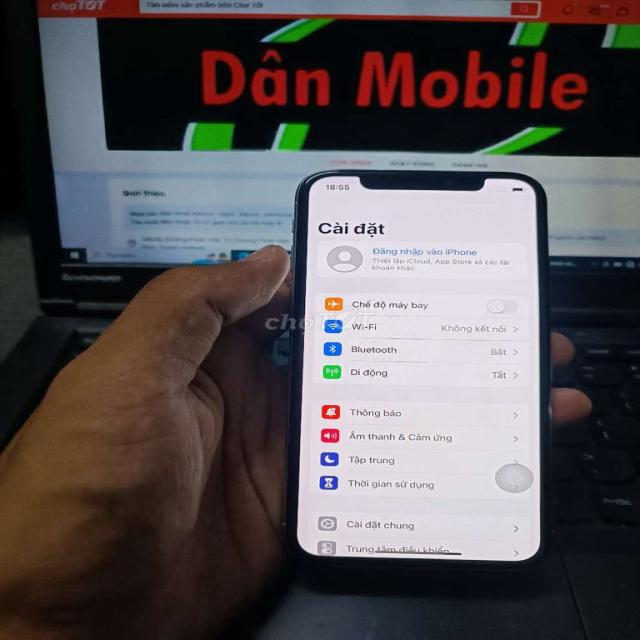gen_x_xs: (287, 168, 551, 573)
